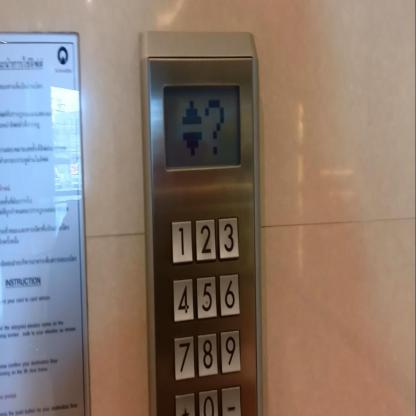-: (220, 382, 242, 416)
1: (170, 218, 194, 266)
2: (194, 216, 217, 263)
3: (216, 214, 240, 262)
4: (170, 276, 194, 323)
5: (195, 274, 218, 320)
6: (218, 272, 240, 318)
7: (172, 333, 196, 382)
8: (196, 329, 218, 379)
9: (219, 328, 242, 376)
led: (161, 79, 243, 174)
